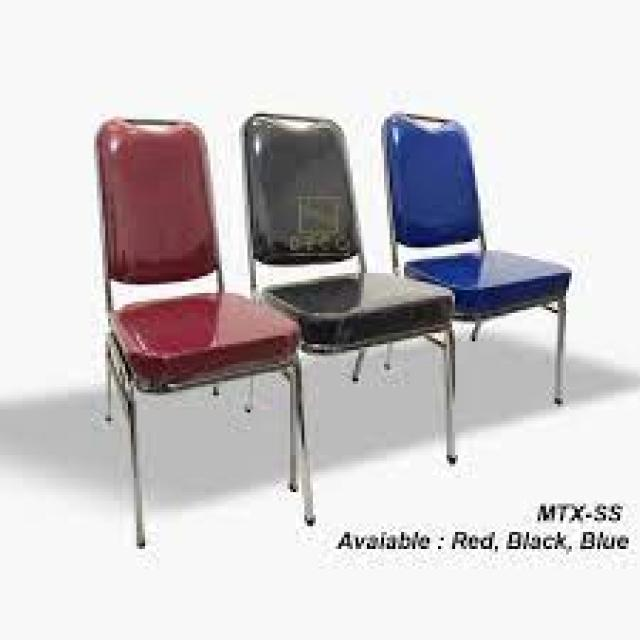chair: (91, 122, 315, 551), (241, 114, 457, 479), (378, 111, 571, 434)
